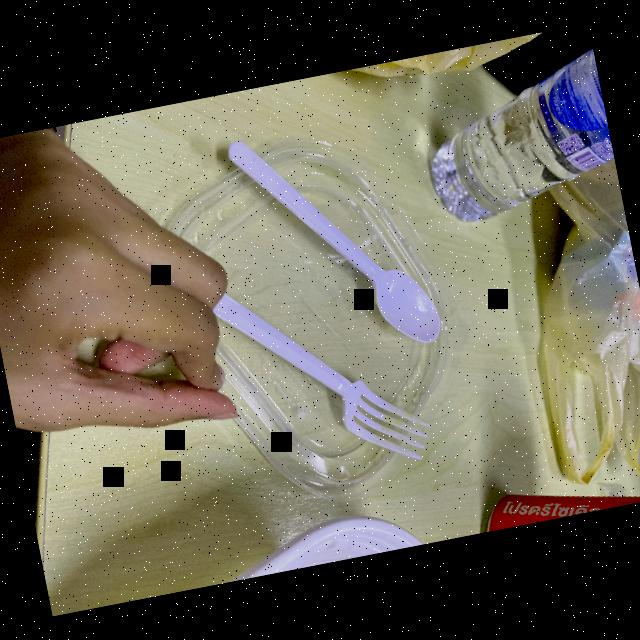plastic_spoon: (204, 101, 455, 385), (194, 247, 436, 497)
